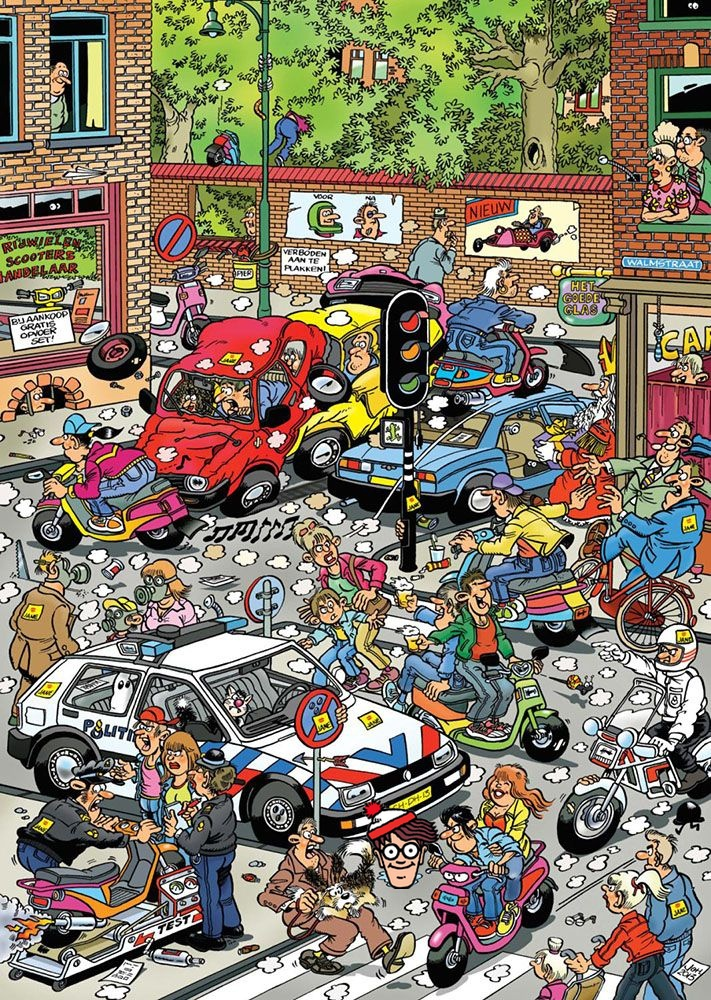waldo: (362, 798, 440, 889)
